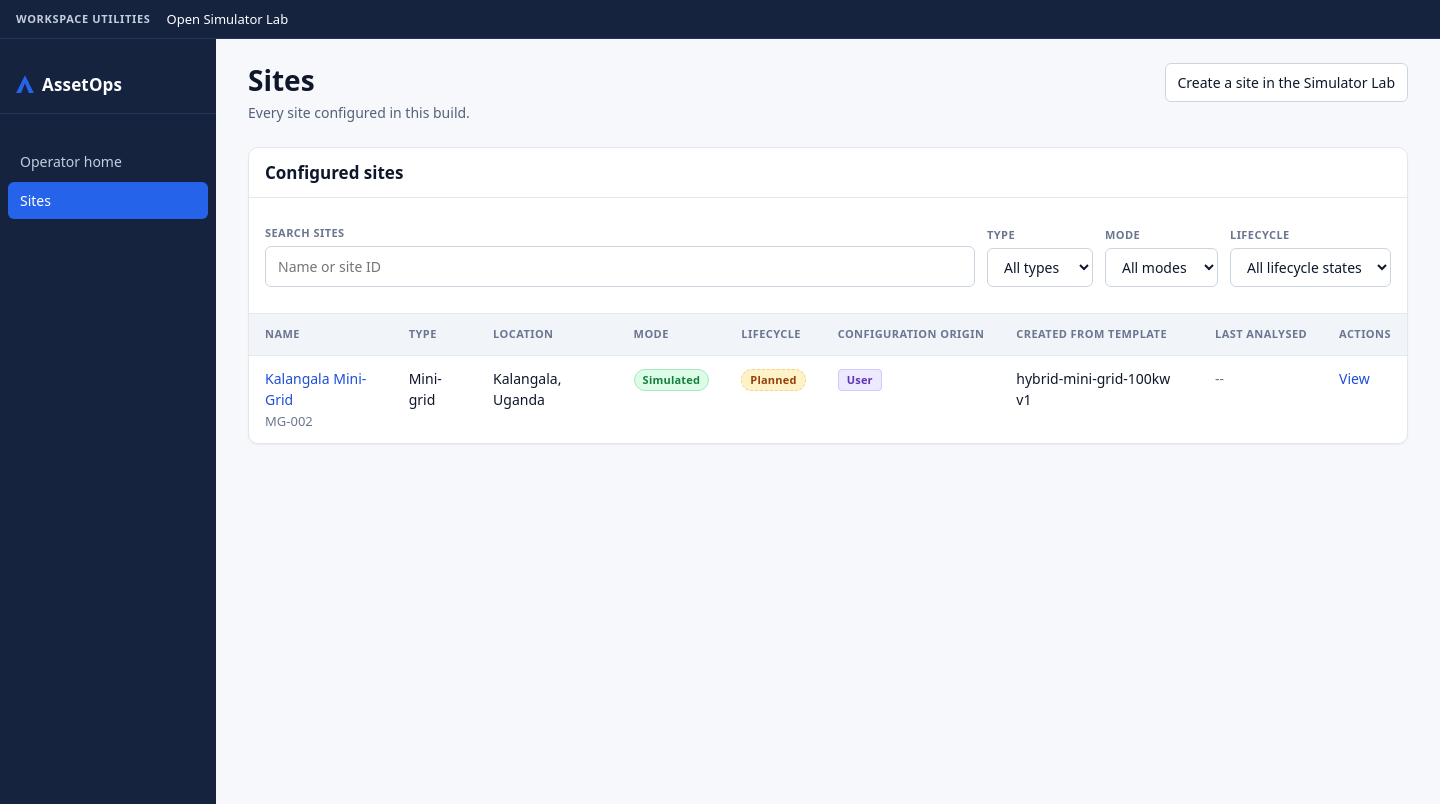
Test: a Sites row is the way into a site › opens the site the row names
The width and height of the screenshot is (1440, 804).
Expected: the table is shown, [249,314,1407,443]
Step 1. Click the link "Kalangala Mini-Grid" → (316, 378), box [265,369,366,409]
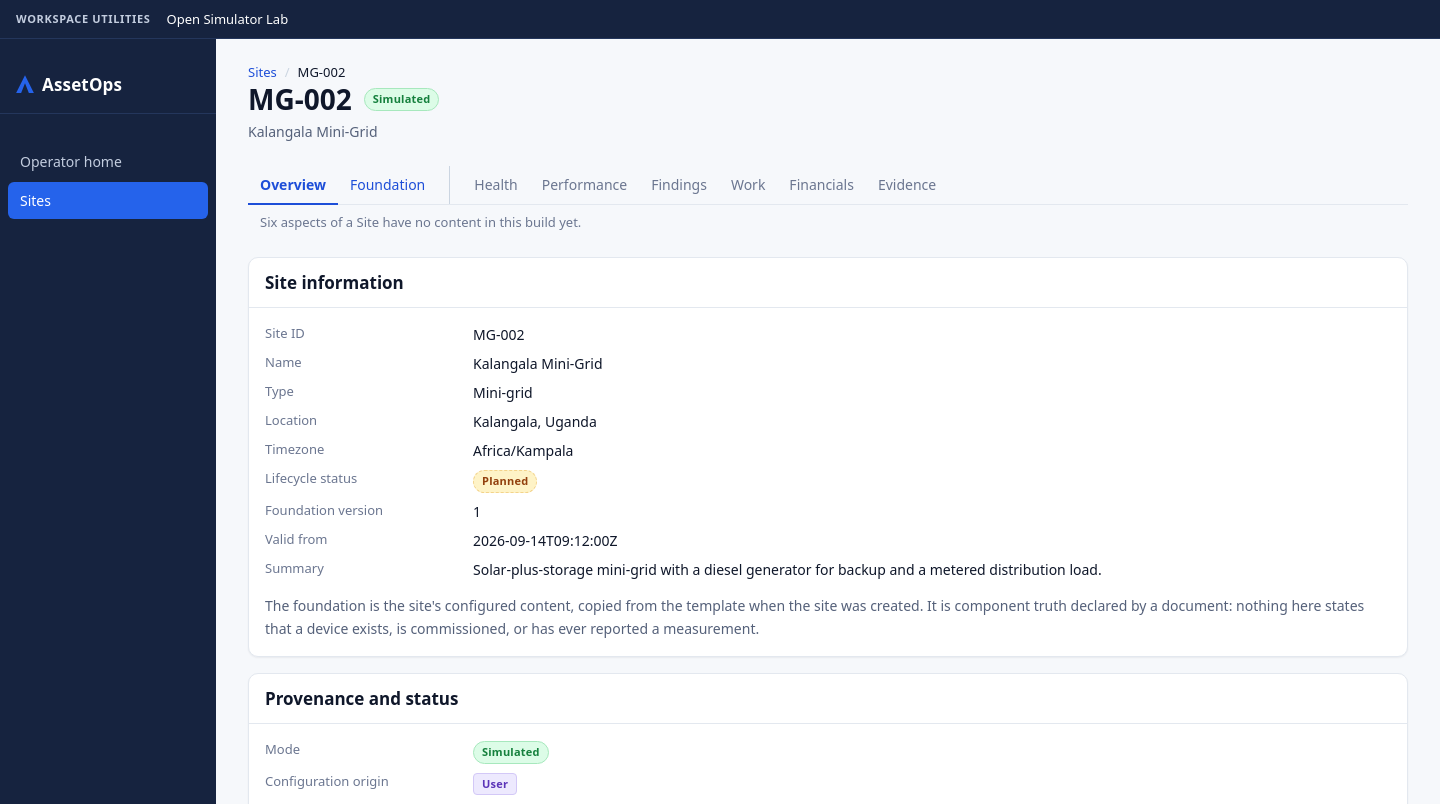
Now the heading "MG-002" is shown, box [248,82,352,117]
Now the 1st text "Kalangala Mini-Grid" is shown, box [248,122,378,141]
